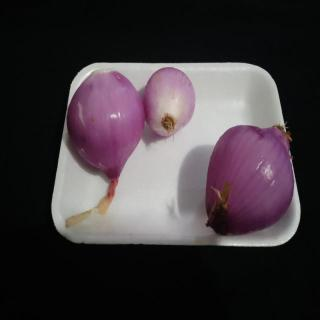Bawang Merah: (65, 68, 147, 215), (203, 120, 297, 238), (143, 66, 199, 140)
